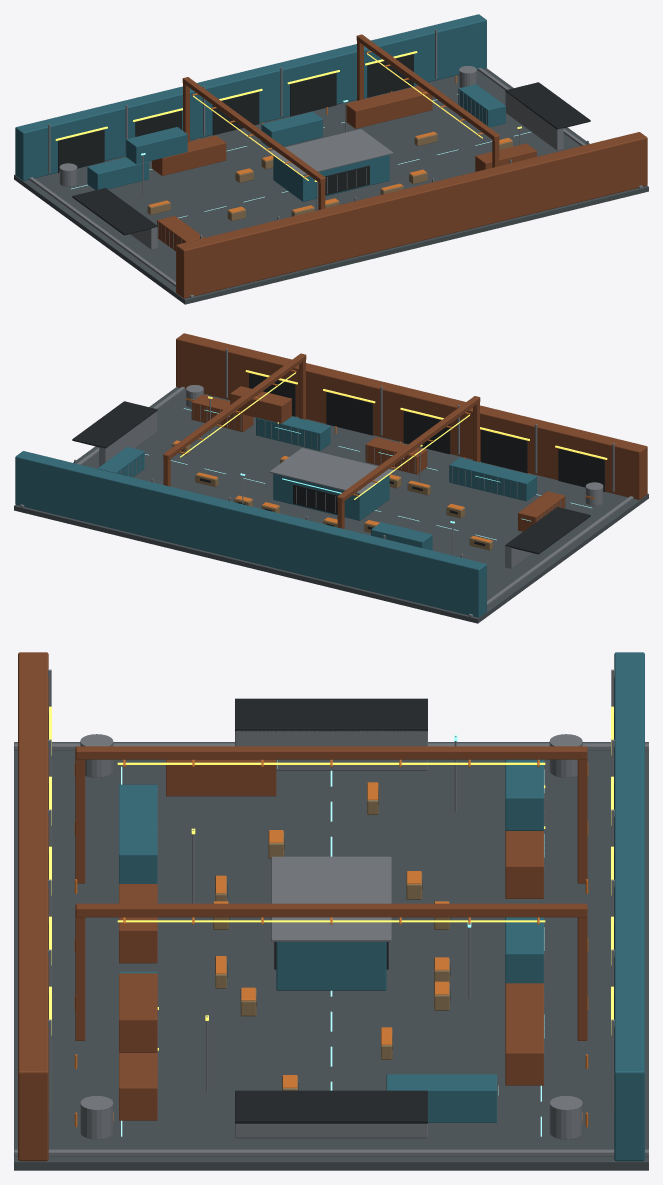
Rendered from dockyard_environment.glb.
The picture shows the model from 3 angles, top to bottom: view 1: azimuth 30°, elevation 25°; view 2: azimuth 150°, elevation 25°; view 3: azimuth 270°, elevation 25°; orthographic projection. The views are drawn at different scales.
Visible parts, largest first — view 1: Wet dock deck, Warehouse wall.001, Warehouse wall, Customs roof cap, Container 03, Customs block, Spawn shelter roof, Spawn shelter roof.001, Container 01, Upper container, Warehouse bay.003, Crane beam (+14 smaller); view 2: Wet dock deck, Warehouse wall, Warehouse wall.001, Customs roof cap, Container 08, Customs block, Spawn shelter roof, Spawn shelter roof.001, Container 06, Warehouse bay.006, Warehouse bay.008, Crane beam (+13 smaller); view 3: Wet dock deck, Warehouse wall, Warehouse wall.001, Customs roof cap, Crane beam.001, Crane beam, Spawn shelter roof.001, Spawn shelter roof, Customs block, Spawn shelter back, Perimeter curb.001, Container 04 (+21 smaller).
Boxes of the visible parts, left/top/right/bottom form: Wet dock deck: left=14, top=68, right=648, bottom=304; Warehouse wall.001: left=176, top=132, right=647, bottom=298; Warehouse wall: left=15, top=14, right=486, bottom=180; Customs roof cap: left=270, top=129, right=393, bottom=175; Container 03: left=346, top=86, right=432, bottom=128; Customs block: left=273, top=154, right=389, bottom=201; Spawn shelter roof: left=72, top=188, right=157, bottom=235; Spawn shelter roof.001: left=505, top=82, right=590, bottom=129; Container 01: left=152, top=135, right=226, bottom=175; Upper container: left=126, top=127, right=187, bottom=164; Warehouse bay.003: left=290, top=73, right=336, bottom=116; Crane beam: left=182, top=77, right=325, bottom=183; Wet dock deck: left=14, top=387, right=648, bottom=623; Warehouse wall: left=15, top=451, right=486, bottom=617; Warehouse wall.001: left=176, top=333, right=647, bottom=499; Customs roof cap: left=269, top=448, right=392, bottom=494; Container 08: left=449, top=457, right=536, bottom=501; Customs block: left=273, top=473, right=389, bottom=520; Spawn shelter roof: left=505, top=507, right=590, bottom=554; Spawn shelter roof.001: left=72, top=401, right=157, bottom=448; Container 06: left=256, top=416, right=330, bottom=450; Warehouse bay.006: left=481, top=429, right=527, bottom=473; Warehouse bay.008: left=326, top=392, right=372, bottom=435; Crane beam: left=337, top=396, right=480, bottom=502; Wet dock deck: left=14, top=742, right=648, bottom=1170; Warehouse wall: left=614, top=652, right=644, bottom=1161; Warehouse wall.001: left=18, top=652, right=48, bottom=1161; Customs roof cap: left=271, top=856, right=391, bottom=941; Crane beam.001: left=76, top=903, right=586, bottom=917; Crane beam: left=76, top=746, right=586, bottom=759; Spawn shelter roof.001: left=235, top=1090, right=427, bottom=1123; Spawn shelter roof: left=235, top=698, right=427, bottom=731; Customs block: left=276, top=942, right=386, bottom=990; Spawn shelter back: left=235, top=730, right=427, bottom=770; Perimeter curb.001: left=14, top=1149, right=648, bottom=1156; Container 04: left=386, top=1074, right=496, bottom=1122.
Size of the model in its own units: 72.4 by 11.37 by 46.
